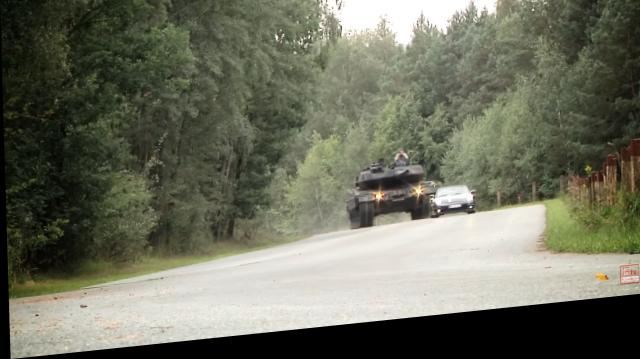tank: (353, 170, 424, 232)
